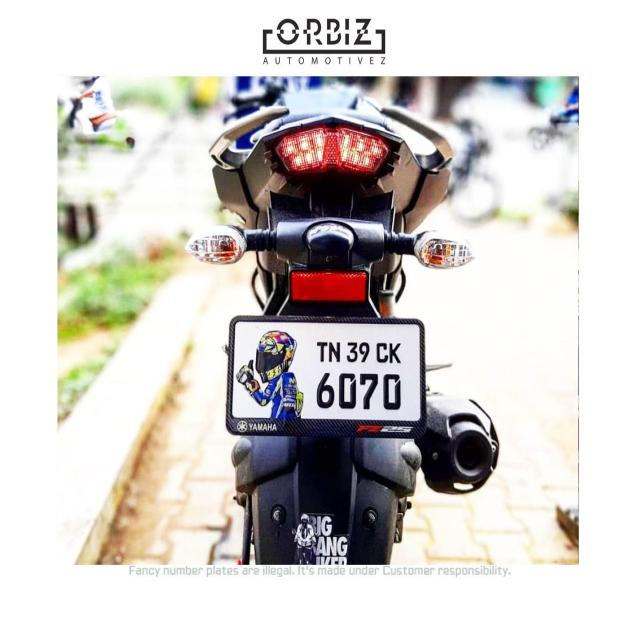license_plate: (224, 313, 426, 437)
